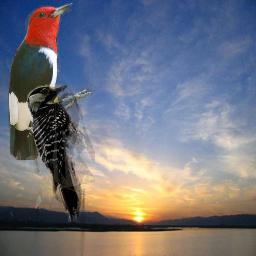Woodpecker: (7, 3, 92, 160), (26, 84, 95, 224)
